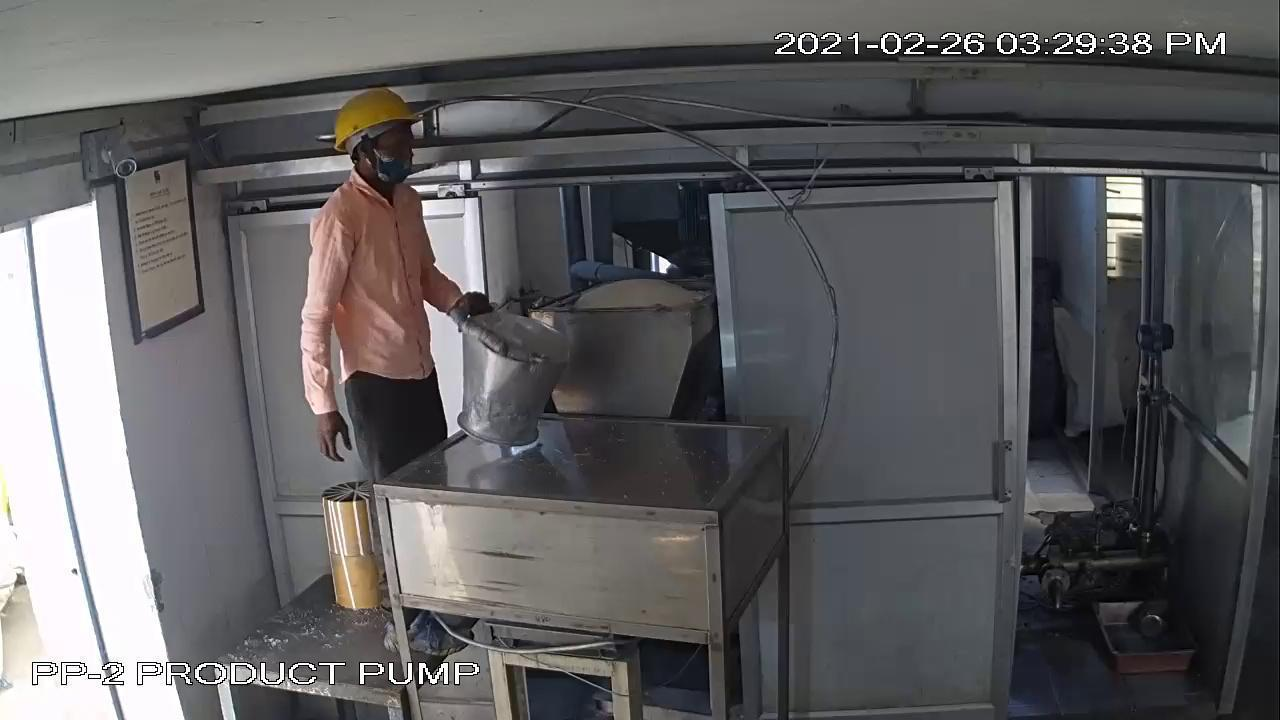helmet: (325, 89, 424, 152)
